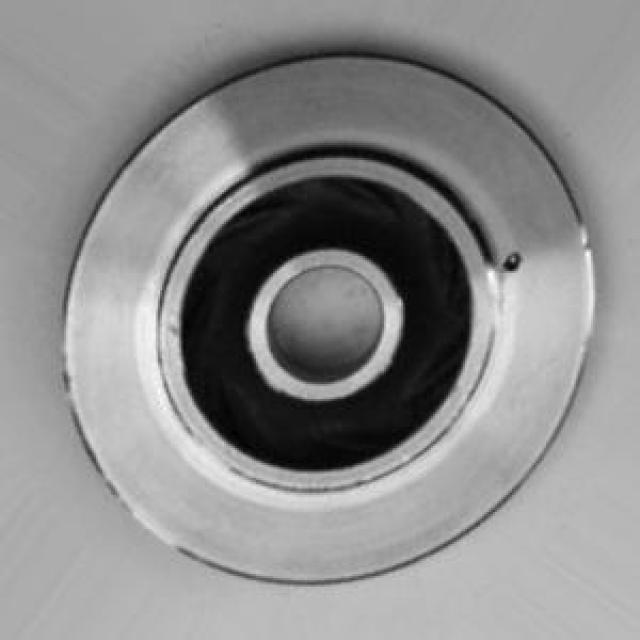Defect: (494, 242, 528, 280)
